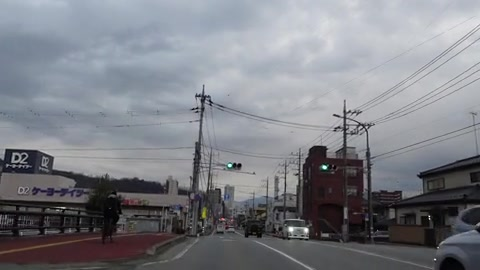traffic_sign: (223, 193, 230, 200)
